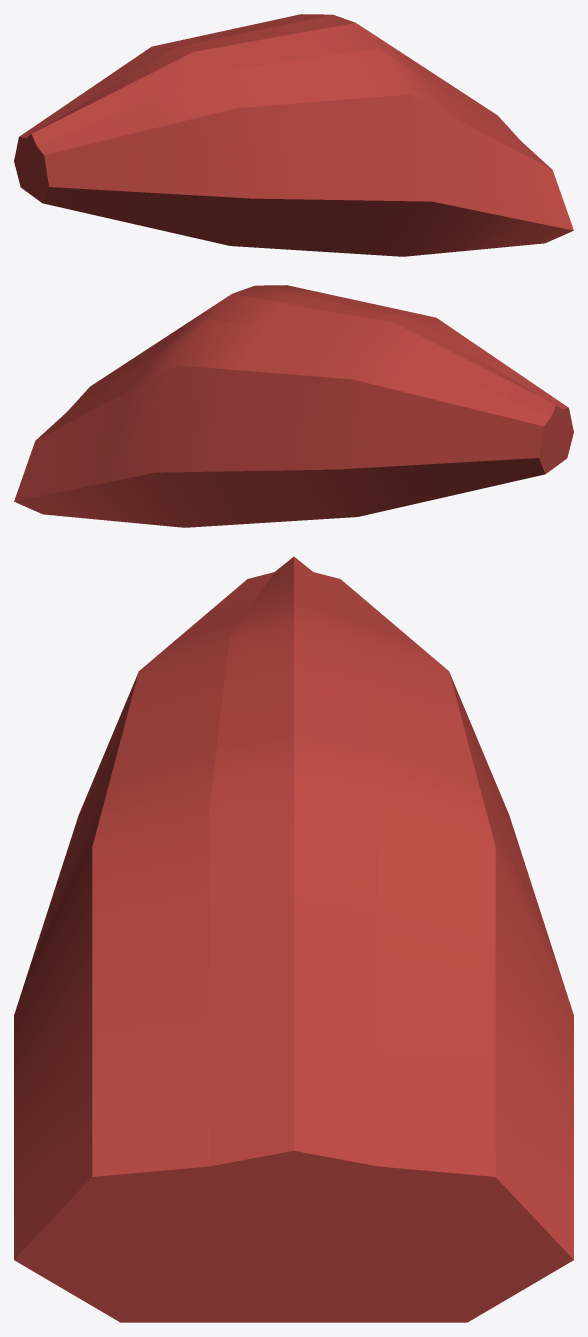
The model's file is racing_lod1.glb.
3 views of the same model, one above another, from view 1: azimuth 30°, elevation 25°; view 2: azimuth 150°, elevation 25°; view 3: azimuth 270°, elevation 25° (orthographic). The views are drawn at different scales.
Visible parts, largest first — view 1: racing_lod1; view 2: racing_lod1; view 3: racing_lod1.
Part boxes in pixels (box(x1,y1,x2,y2)): racing_lod1: box(14, 14, 573, 256); racing_lod1: box(14, 285, 573, 527); racing_lod1: box(14, 556, 573, 1322).
Size of the model in its own units: 0.46 by 0.218 by 0.26.
